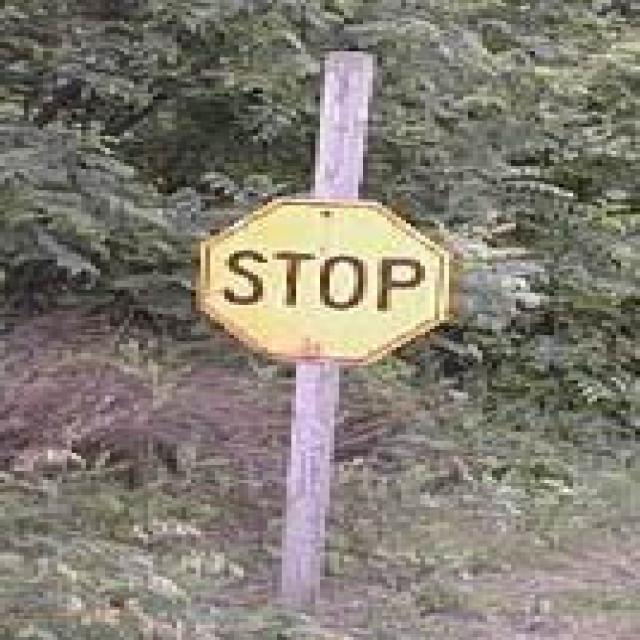stop-sign: (162, 184, 471, 361)
